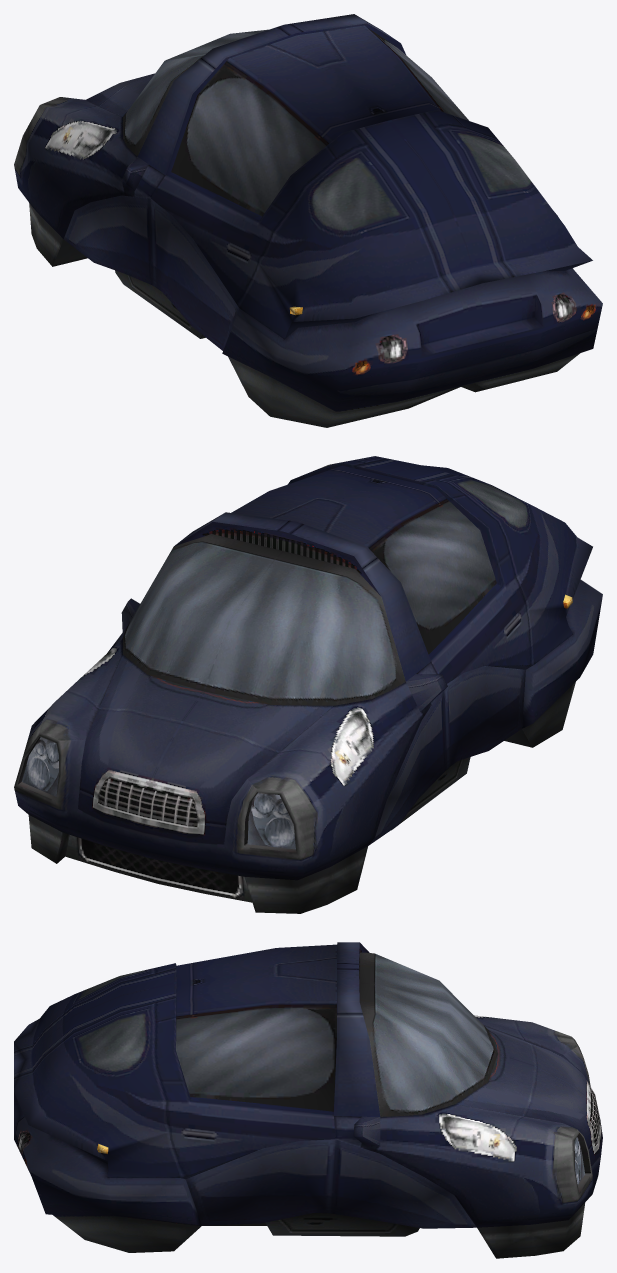
Rendered from cityhopper.glb.
3 renders of one model, top to bottom at view 1: azimuth 30°, elevation 25°; view 2: azimuth 150°, elevation 25°; view 3: azimuth 270°, elevation 25°, orthographic. The views are drawn at different scales.
Parts seen in each view (by area): view 1: __lithtech_lh_to_gltf_rh__; view 2: __lithtech_lh_to_gltf_rh__; view 3: __lithtech_lh_to_gltf_rh__.
Boxes of the visible parts, <box> form: __lithtech_lh_to_gltf_rh__: <box>14,14,602,427</box>; __lithtech_lh_to_gltf_rh__: <box>14,456,602,913</box>; __lithtech_lh_to_gltf_rh__: <box>14,942,602,1258</box>.
Bounding box in the file's own units: 145 × 114 × 265.
1 material, 1 textured.
